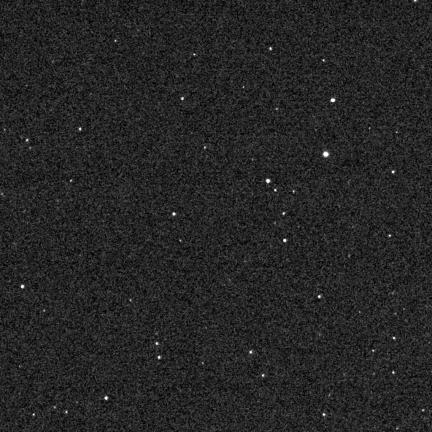blob: (323, 152, 329, 157), (26, 138, 30, 143), (105, 396, 109, 401), (158, 356, 162, 360), (266, 179, 270, 183), (392, 371, 396, 375), (331, 98, 335, 102), (392, 337, 396, 341), (249, 351, 253, 355), (392, 171, 396, 175), (181, 97, 185, 101), (79, 127, 82, 132), (172, 213, 176, 216), (33, 413, 36, 417), (262, 374, 265, 378), (156, 342, 159, 346), (270, 47, 273, 51), (283, 212, 286, 216), (70, 179, 73, 183), (194, 53, 197, 57), (389, 235, 392, 238), (323, 413, 326, 416), (21, 285, 24, 288), (323, 60, 326, 63), (318, 295, 321, 298), (372, 350, 375, 353), (274, 189, 277, 191), (284, 239, 286, 242)
